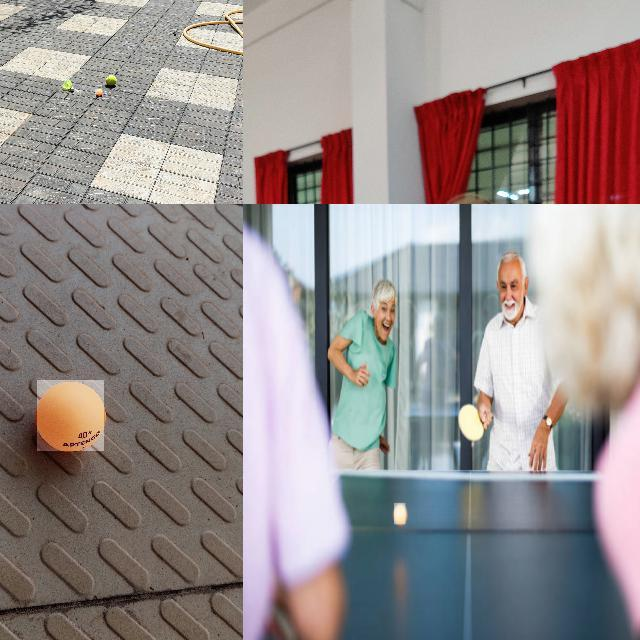ping-pong-ball: (37, 380, 105, 452), (394, 503, 406, 525), (95, 89, 103, 95)
